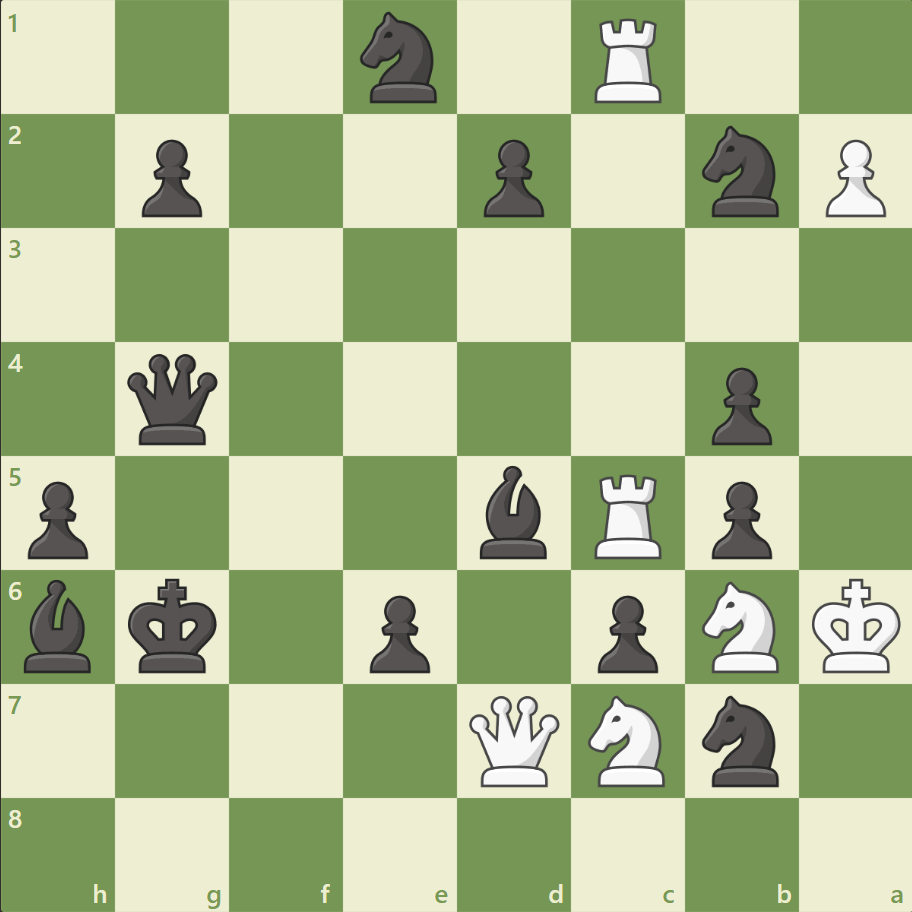K: (806, 571, 906, 679)
N: (579, 688, 676, 791), (692, 575, 789, 677)
P: (815, 132, 889, 223)
Q: (464, 690, 563, 789)
R: (587, 466, 670, 563), (587, 12, 670, 109)
b: (471, 460, 555, 563), (17, 574, 101, 676)
k: (124, 571, 224, 679)
n: (351, 7, 449, 110), (692, 688, 789, 791), (692, 121, 789, 223)
p: (701, 473, 776, 564), (20, 473, 95, 564), (701, 359, 776, 450), (474, 132, 549, 223), (133, 132, 208, 223), (588, 586, 662, 677), (361, 586, 435, 677)
q: (124, 349, 223, 449)
